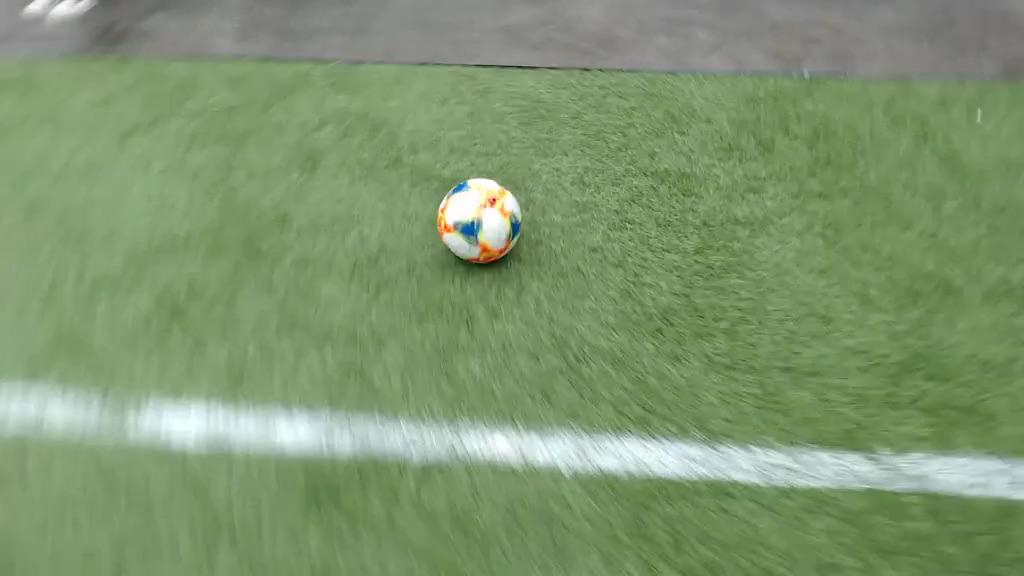ball: (438, 176, 522, 266)
